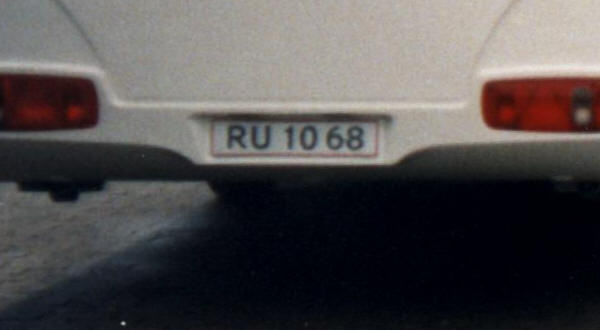license_plate: (210, 117, 382, 160)
